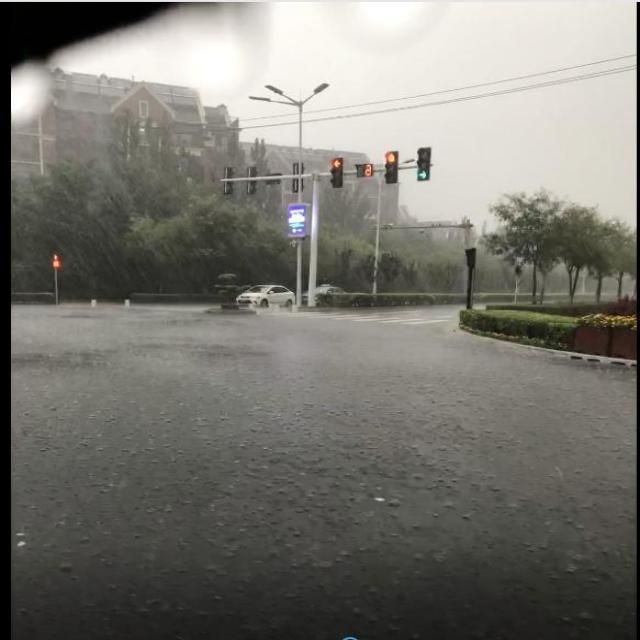car: (234, 284, 296, 308), (299, 282, 352, 304)
